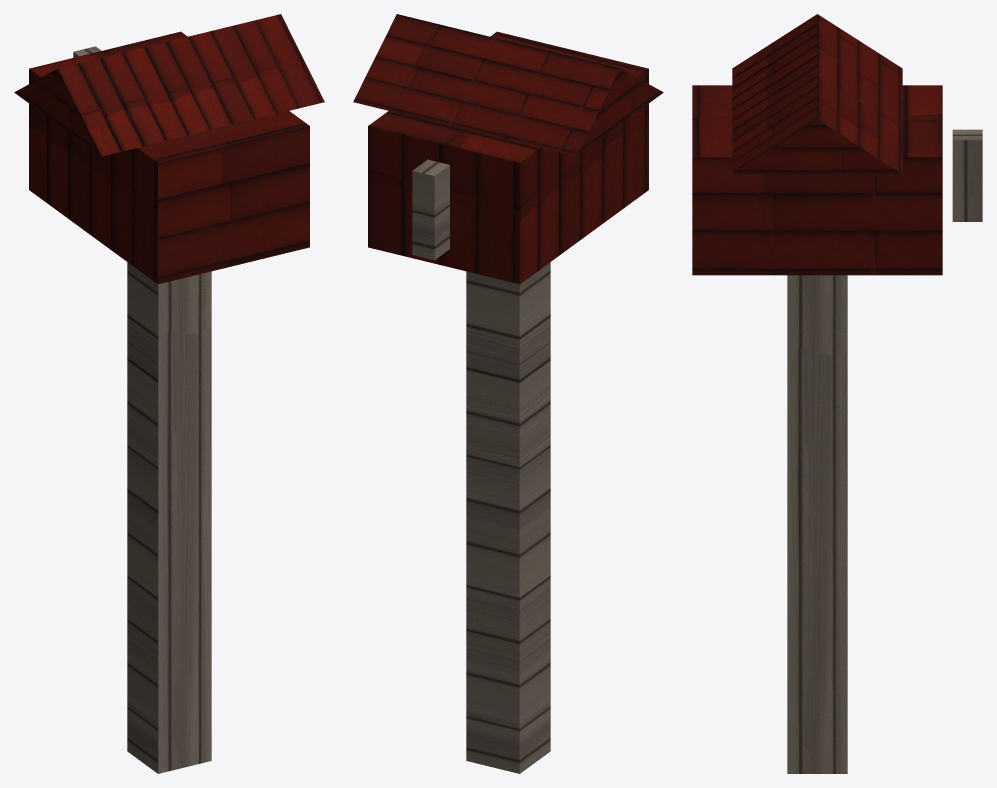
File: mailbox_01.glb
3 renders of one model, left to right at view 1: azimuth 30°, elevation 25°; view 2: azimuth 150°, elevation 25°; view 3: azimuth 270°, elevation 25°, orthographic. The views are drawn at different scales.
Visible parts, largest first — view 1: mailbox_01; view 2: mailbox_01; view 3: mailbox_01.
Part boxes in pixels (x1=…): mailbox_01: x1=14, y1=14, x2=324, y2=773; mailbox_01: x1=353, y1=14, x2=663, y2=773; mailbox_01: x1=692, y1=14, x2=982, y2=773.
Bounding box in the file's own units: 0.5 × 1.53 × 0.58.
2 materials, 2 textured.
